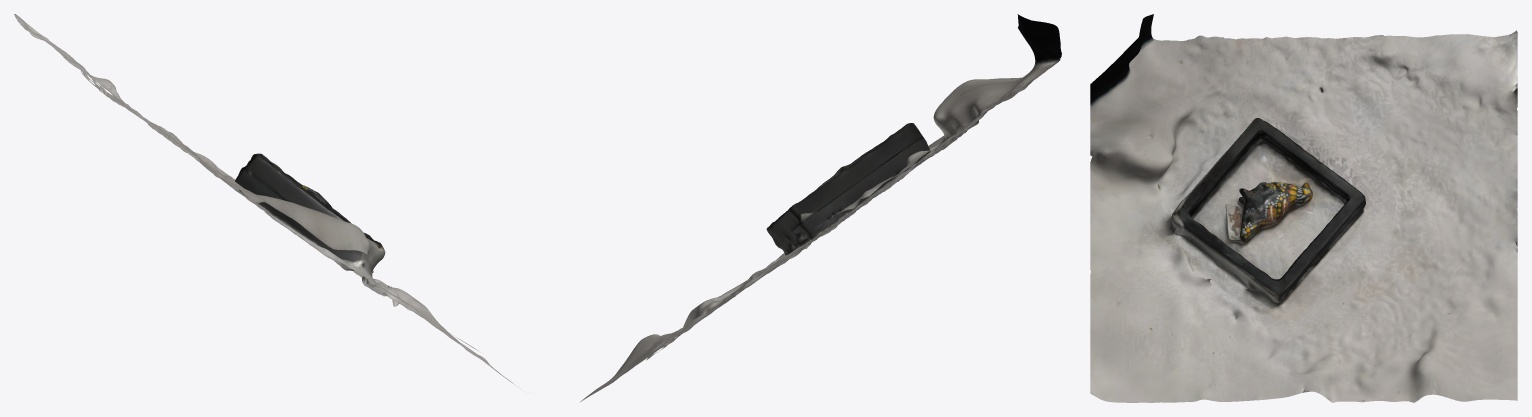
The picture shows the model from 3 angles, left to right: view 1: azimuth 30°, elevation 25°; view 2: azimuth 150°, elevation 25°; view 3: azimuth 270°, elevation 25°; orthographic projection. The views are drawn at different scales.
Bounding box in the file's own units: 1.43 × 1.44 × 2.1.
1 material, 1 textured.
